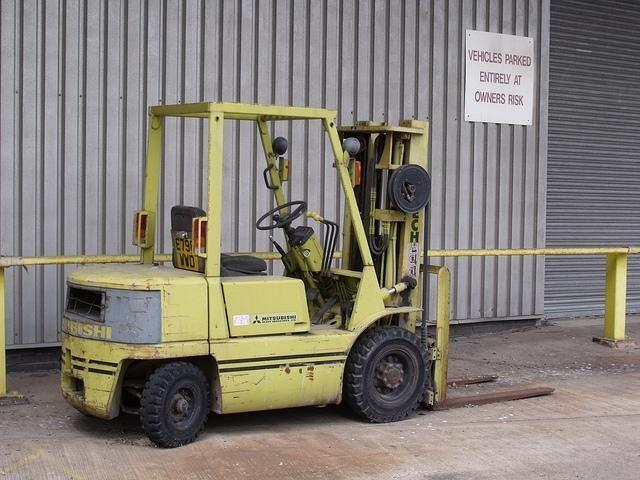truck: (54, 104, 430, 451)
